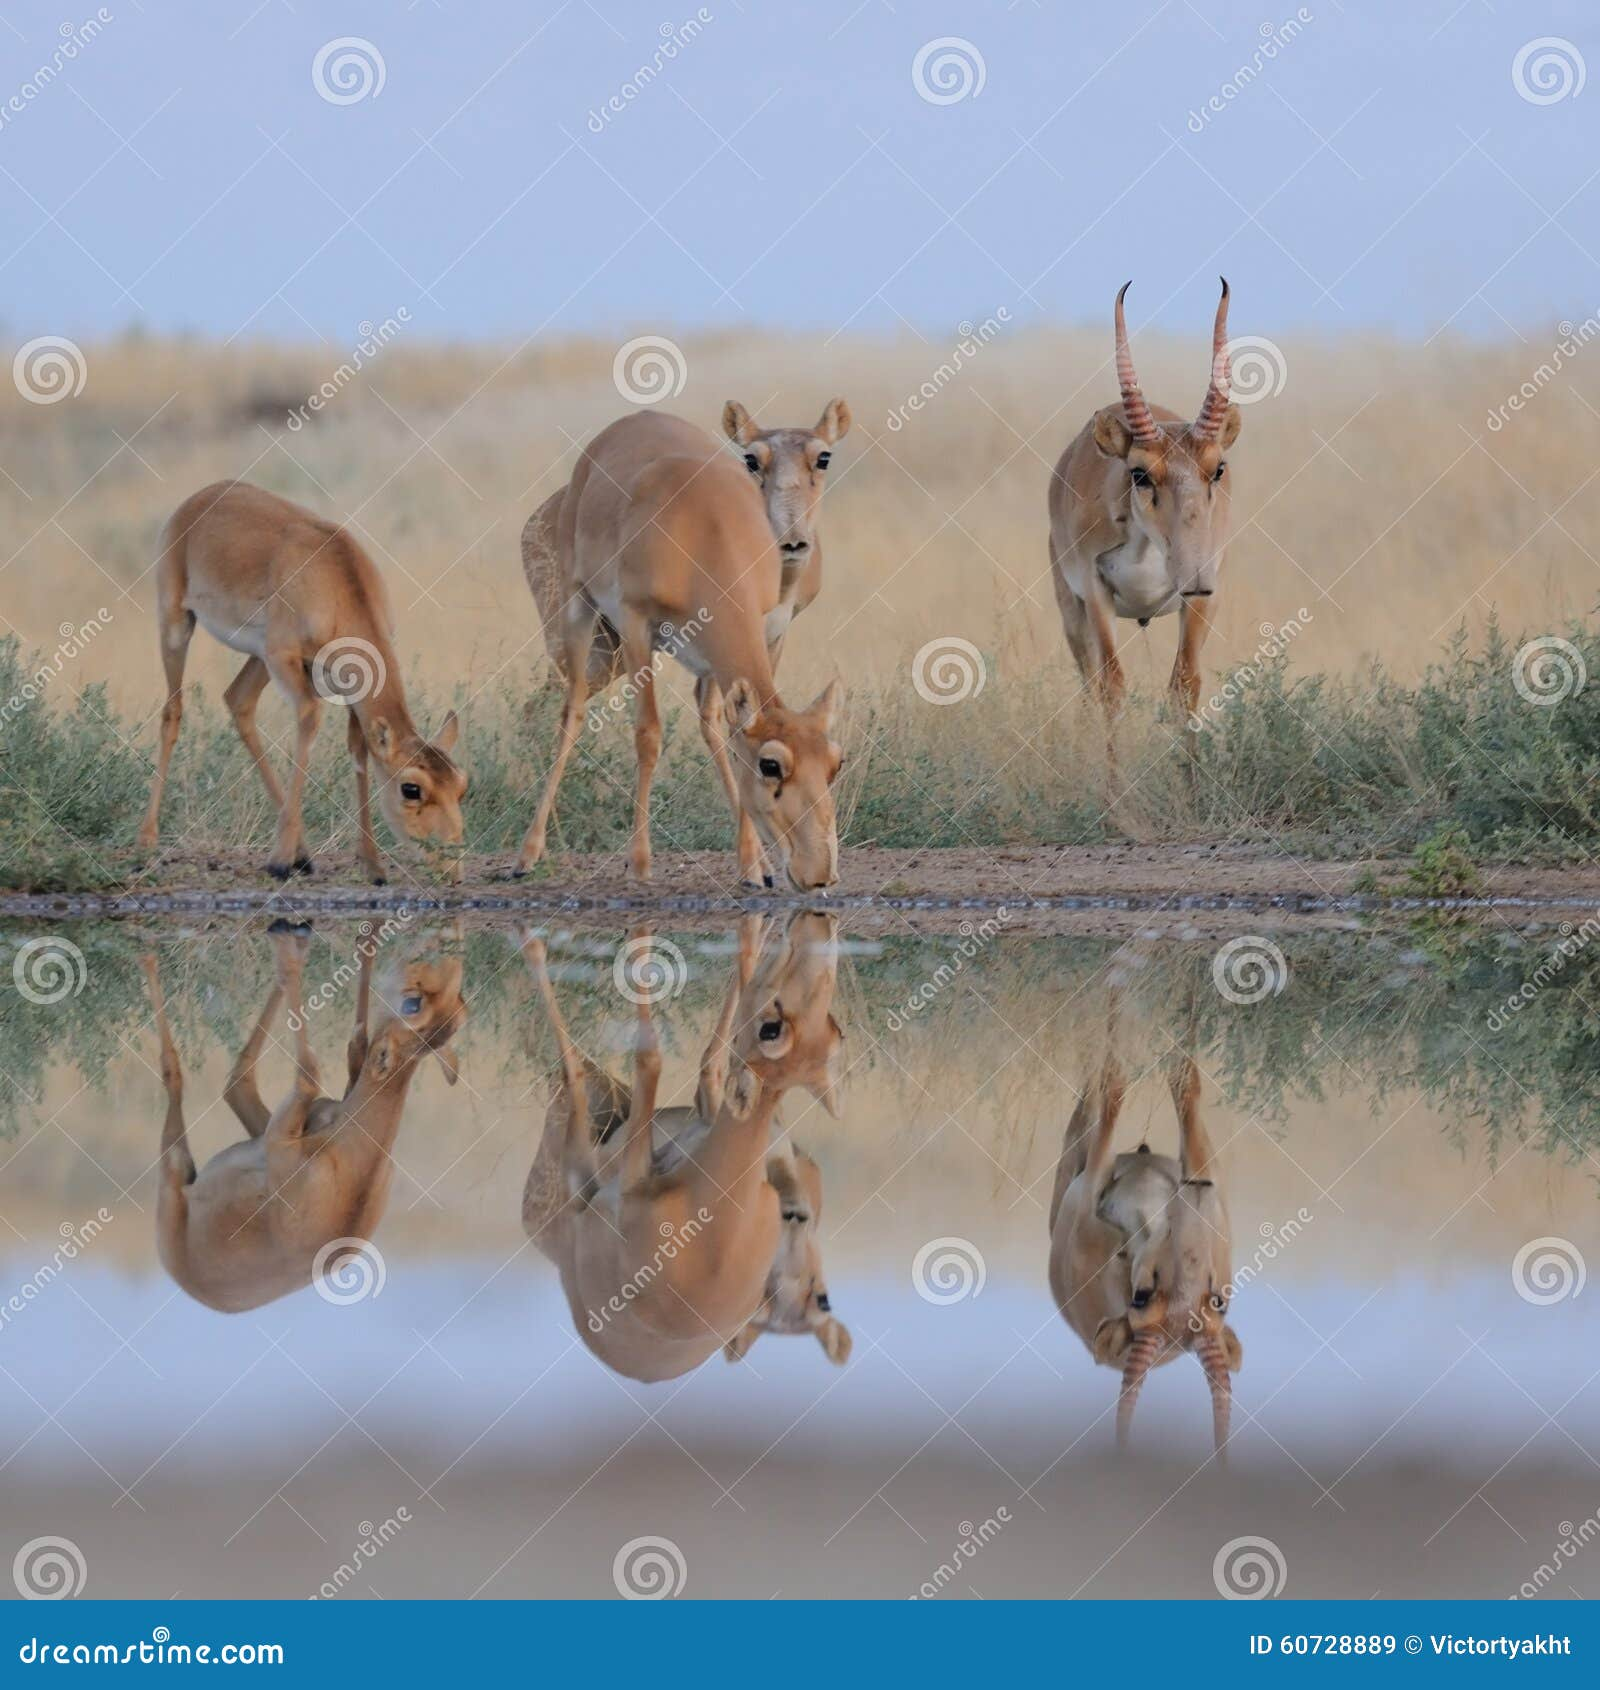saiga: (1020, 274, 1308, 847)
